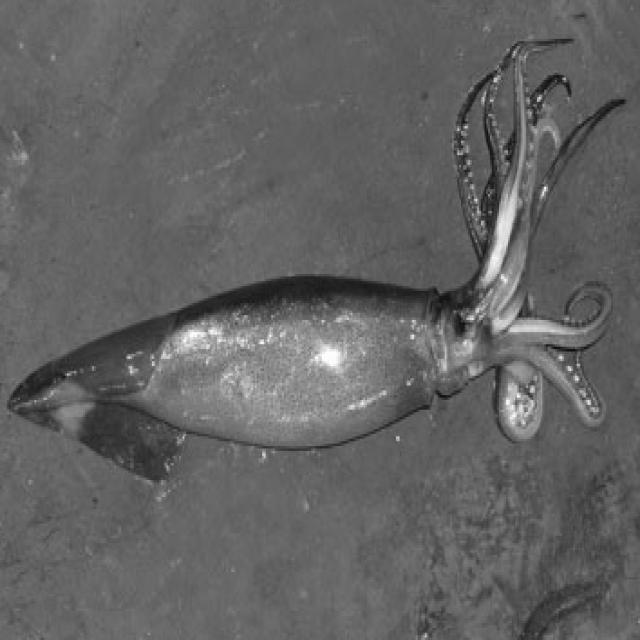SQUID: (0, 90, 640, 480)
